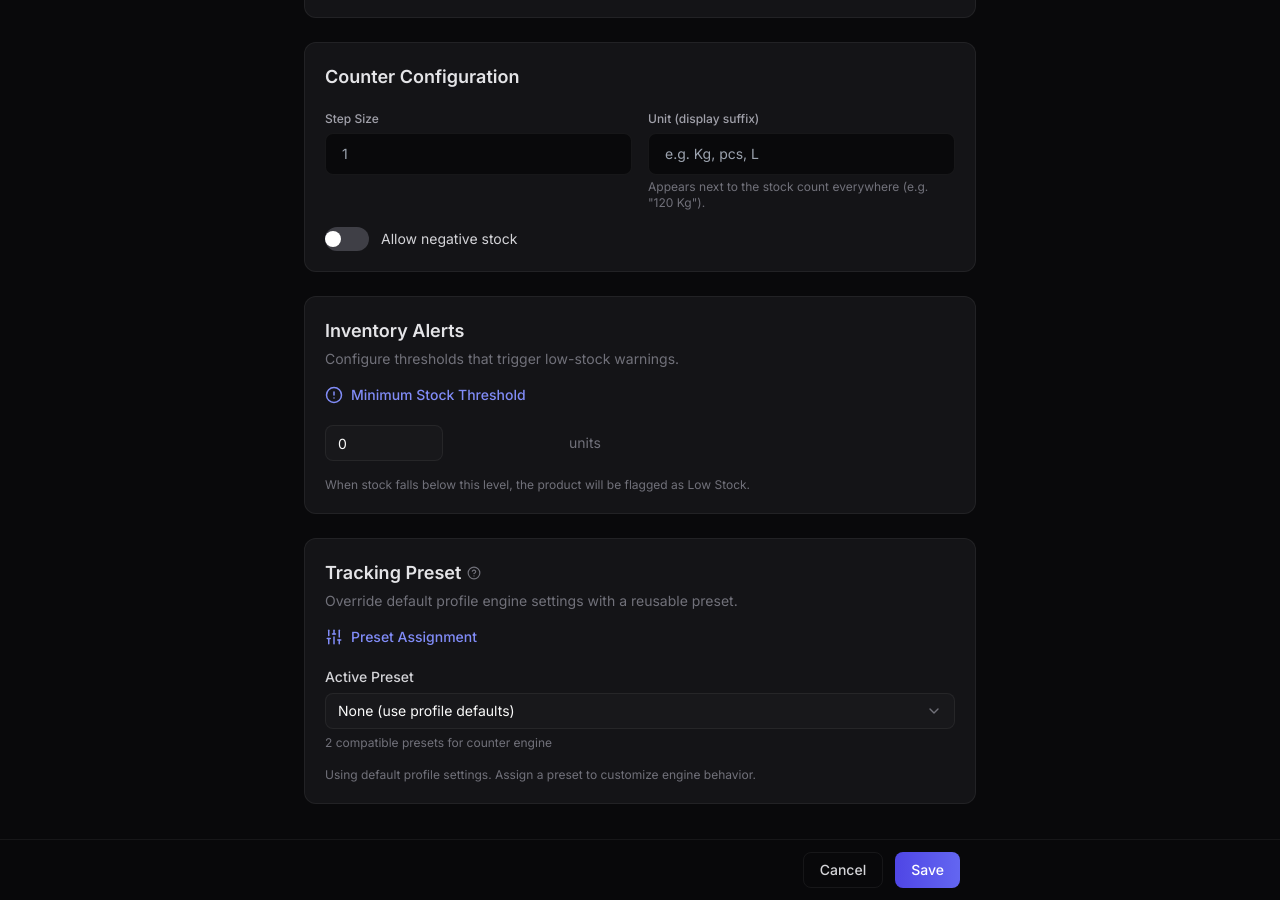
ProductModelEdit – Tracking Preset section › shows compatible presets only (counter engine type)
(page scrolled)
Note: Open the custom dropdown
Click the dropdown.
click(426, 710)  # box [325,693,955,729]
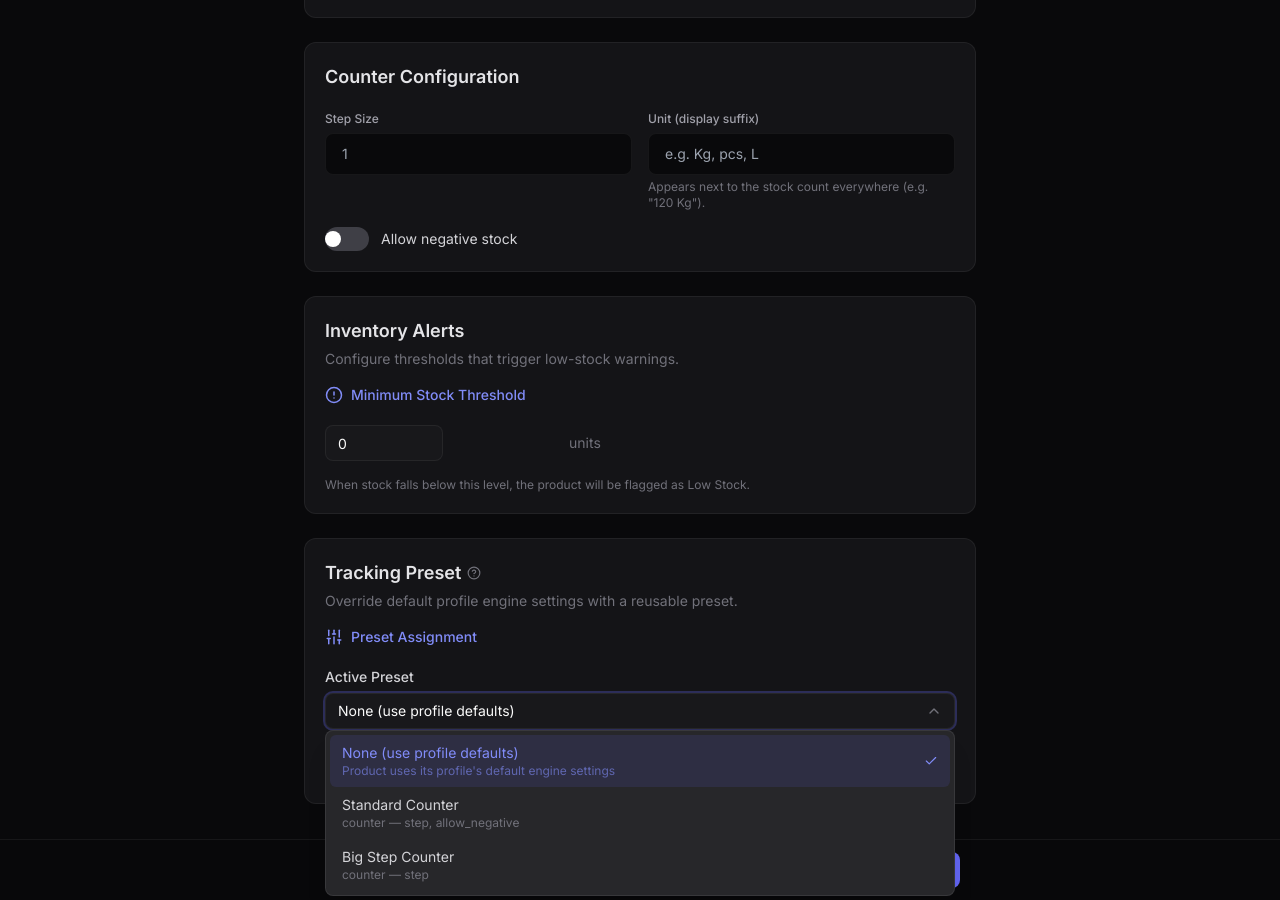
Check: the text "Standard Counter" is shown, box [342,796,459,813]
Check: the text "Big Step Counter" is shown, box [342,847,454,867]
